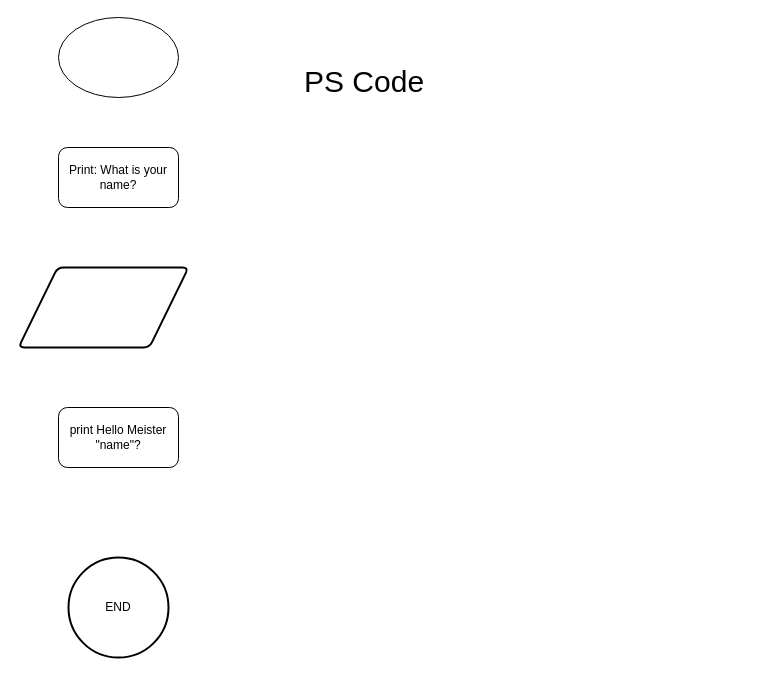
Some shapes in this 775 by 676 pixel diagram are drawn without their labels. The centre of each missing label's shape, as x and y in pixels:
input : name: the point at 103,307
Start: the point at 118,57
